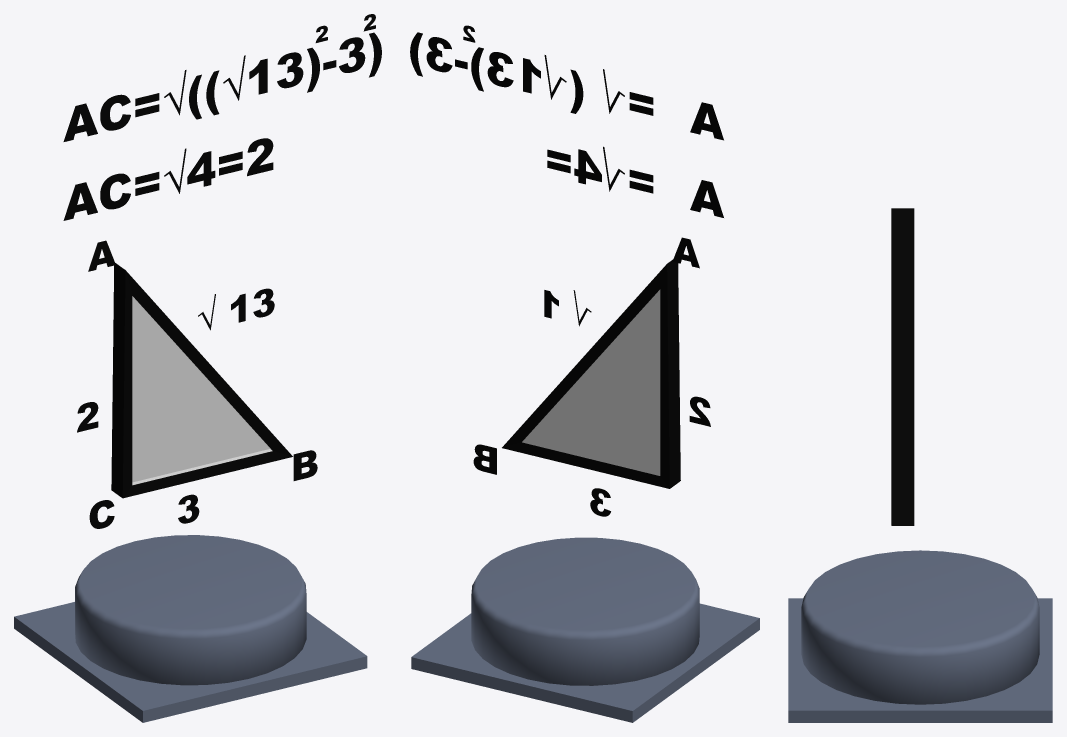
The picture shows the model from 3 angles, left to right: view 1: azimuth 30°, elevation 25°; view 2: azimuth 150°, elevation 25°; view 3: azimuth 270°, elevation 25°; orthographic projection. The views are drawn at different scales.
Visible parts, largest first — view 1: Cube, Cube.001, Text.008, Text.007, Text.004; view 2: Cube, Cube.001, Text.008, Text.007; view 3: Cube, Cube.001.
Part boxes in pixels (x1,y1,x2,y2): Cube: (14, 535, 367, 722); Cube.001: (111, 263, 292, 498); Text.008: (63, 32, 381, 141); Text.007: (63, 138, 273, 220); Text.004: (198, 288, 274, 330); Cube: (411, 537, 759, 722); Cube.001: (502, 259, 680, 488); Text.008: (410, 32, 723, 140); Text.007: (547, 146, 723, 217); Cube: (788, 550, 1052, 722); Cube.001: (891, 208, 914, 525).
Size of the model in its own units: 12.96 by 23.22 by 9.09.
